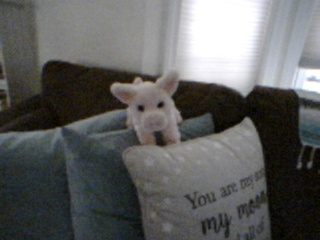piggy: (109, 69, 186, 146)
